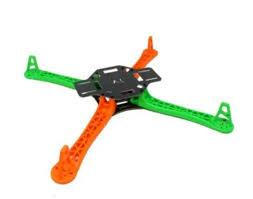drone: (16, 35, 237, 184)
